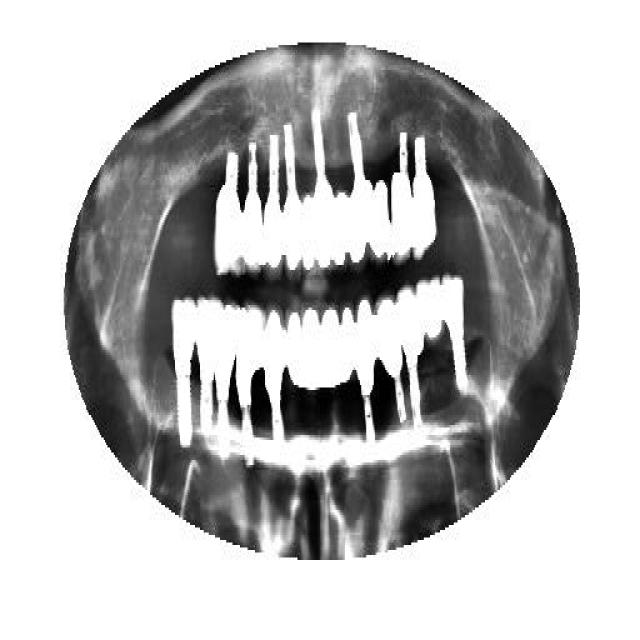Fillings: (415, 275, 444, 347), (300, 300, 321, 398), (321, 300, 341, 398), (370, 175, 390, 265), (286, 300, 302, 392), (333, 185, 348, 273), (341, 298, 355, 388), (301, 188, 315, 278)
Implant: (373, 292, 408, 428), (395, 285, 425, 430), (170, 295, 198, 447), (310, 105, 334, 275), (348, 105, 372, 273), (214, 148, 244, 278), (235, 300, 261, 442), (440, 272, 469, 392), (354, 295, 376, 453), (215, 298, 239, 442), (262, 303, 286, 445), (412, 132, 438, 262), (263, 133, 285, 285), (241, 138, 264, 278), (284, 123, 302, 285), (390, 130, 411, 268), (196, 292, 215, 438)
